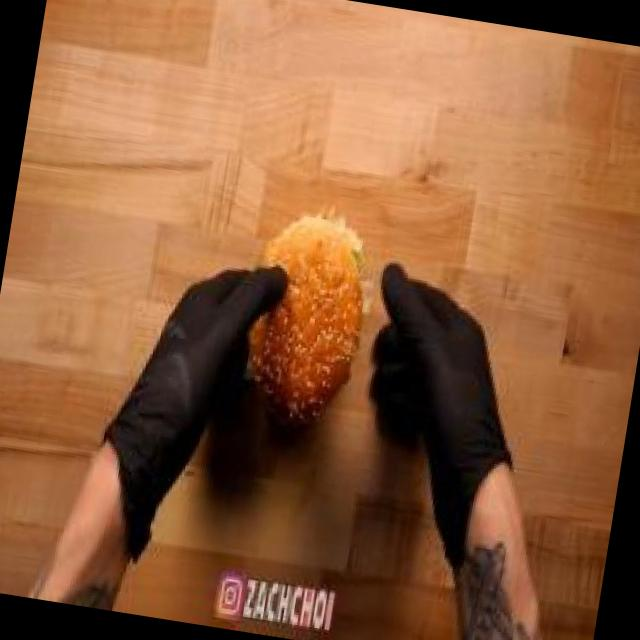burger: (223, 187, 386, 458)
